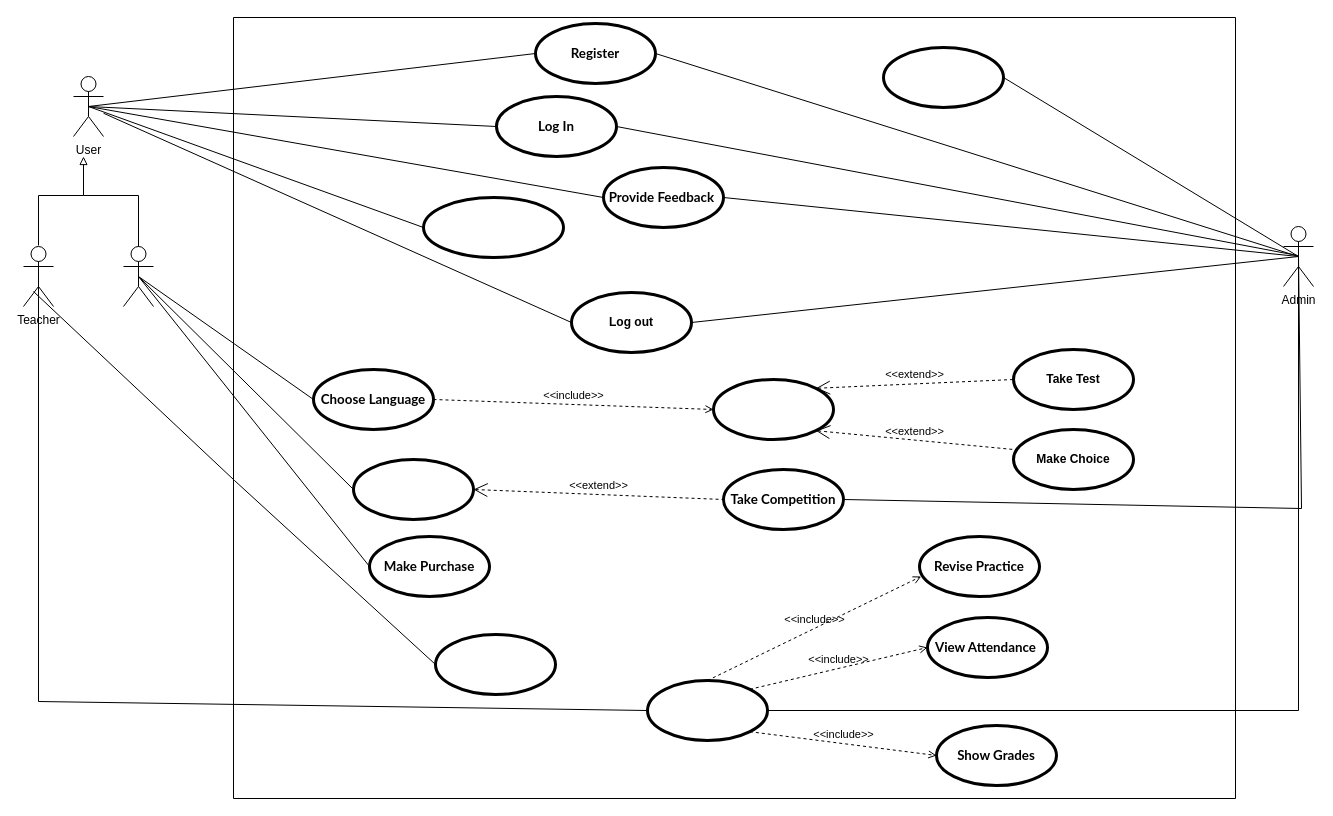
This 1333x816 diagram has some shape labels left out. The centre of each missing label's shape, as x and y in pixels:
Check Level: point 773,409
Generate Reports: point 707,710
Make Content: point 495,664
Manage user data: point 943,77
Practice Skills: point 413,489
Select Product: point 493,227
Student: point 138,276
